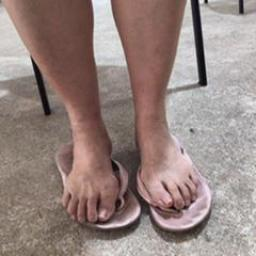Front View -Both Feet-: (42, 78, 216, 227)
